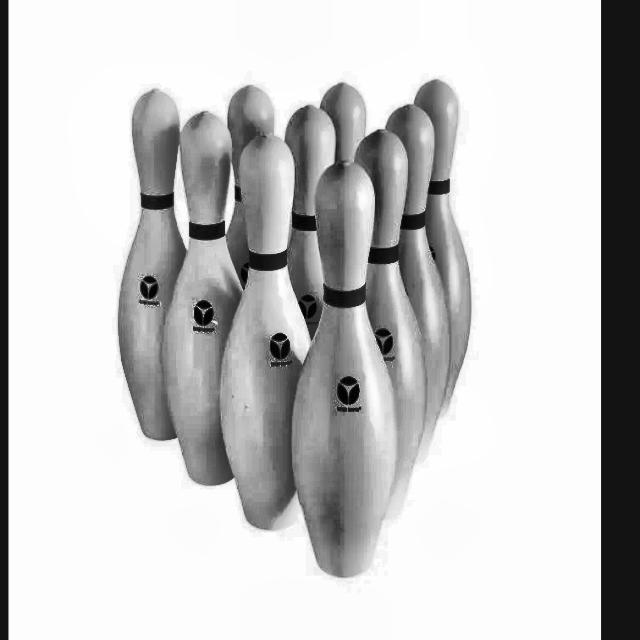bowling-pins: (292, 162, 397, 578), (220, 134, 311, 531), (165, 111, 241, 486), (356, 129, 427, 518), (118, 88, 185, 441), (387, 103, 451, 460), (416, 79, 472, 412), (285, 105, 336, 337), (226, 84, 275, 286), (321, 82, 367, 162)
